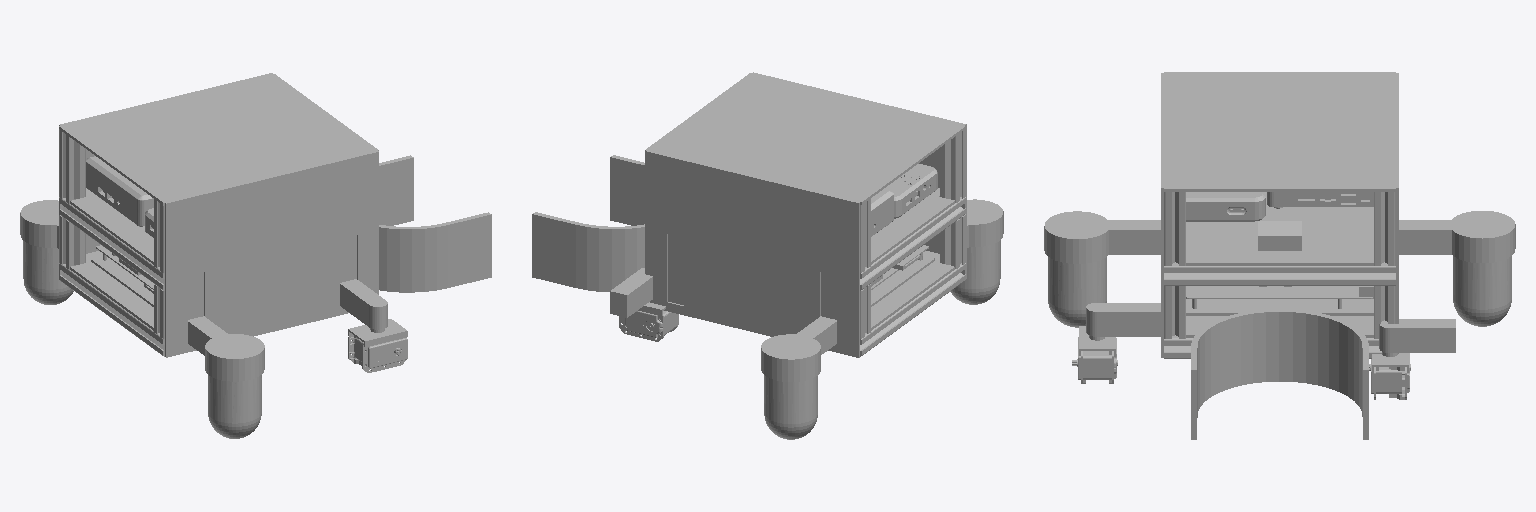
The robot description file, URDF, robot "wmodel":
<?xml version="1.0" encoding="utf-8"?>
<!-- This URDF was automatically created by SolidWorks to URDF Exporter! Originally created by [author] ([email redacted]) 
     Commit Version: 1.5.1-0-g916b5db  Build Version: 1.5.7152.31018
     For more information, please see http://wiki.ros.org/sw_urdf_exporter -->
<robot
  name="wmodel">
  <link
    name="base_link">
    <inertial>
      <origin
        xyz="-0.1234 0.10592 0.066224"
        rpy="0 0 0" />
      <mass
        value="3.9012" />
      <inertia
        ixx="0.0087528"
        ixy="-1.4657E-06"
        ixz="-8.0651E-06"
        iyy="0.018624"
        iyz="-3.3179E-07"
        izz="0.017916" />
    </inertial>
    <visual>
      <origin
        xyz="0 0 0"
        rpy="0 0 0" />
      <geometry>
        <mesh
          filename="package://wmodel/meshes/base_link.STL" />
      </geometry>
      <material
        name="">
        <color
          rgba="0.75294 0.75294 0.75294 1" />
      </material>
    </visual>
    <collision>
      <origin
        xyz="0 0 0"
        rpy="0 0 0" />
      <geometry>
        <mesh
          filename="package://wmodel/meshes/base_link.STL" />
      </geometry>
    </collision>
  </link>
  <link
    name="LFS">
    <inertial>
      <origin
        xyz="-0.062831 0.017418 0.0073567"
        rpy="0 0 0" />
      <mass
        value="0.26437" />
      <inertia
        ixx="6.2915E-05"
        ixy="2.9641E-09"
        ixz="1.6485E-08"
        iyy="6.2207E-05"
        iyz="1.5645E-07"
        izz="3.2075E-05" />
    </inertial>
    <visual>
      <origin
        xyz="0 0 0"
        rpy="0 0 0" />
      <geometry>
        <mesh
          filename="package://wmodel/meshes/LFS.STL" />
      </geometry>
      <material
        name="">
        <color
          rgba="0.75294 0.75294 0.75294 1" />
      </material>
    </visual>
    <collision>
      <origin
        xyz="0 0 0"
        rpy="0 0 0" />
      <geometry>
        <mesh
          filename="package://wmodel/meshes/LFS.STL" />
      </geometry>
    </collision>
  </link>
  <joint
    name="LFS"
    type="fixed">
    <origin
      xyz="-0.018826 0.23812 -0.065637"
      rpy="1.5708 1.5708 0" />
    <parent
      link="base_link" />
    <child
      link="LFS" />
    <axis
      xyz="0 0 0" />
  </joint>
  <link
    name="LFW">
    <inertial>
      <origin
        xyz="0.015 1.7347E-18 0"
        rpy="0 0 0" />
      <mass
        value="0.23932" />
      <inertia
        ixx="0.00030041"
        ixy="-7.4938E-37"
        ixz="5.467E-37"
        iyy="0.00016815"
        iyz="-1.685E-36"
        izz="0.00016815" />
    </inertial>
    <visual>
      <origin
        xyz="0 0 0"
        rpy="0 0 0" />
      <geometry>
        <mesh
          filename="package://wmodel/meshes/LFW.STL" />
      </geometry>
      <material
        name="">
        <color
          rgba="1 1 1 1" />
      </material>
    </visual>
    <collision>
      <origin
        xyz="0 0 0"
        rpy="0 0 0" />
      <geometry>
        <mesh
          filename="package://wmodel/meshes/LFW.STL" />
      </geometry>
    </collision>
  </link>
  <joint
    name="LFW"
    type="continuous">
    <origin
      xyz="-0.032336 0.0046744 0.050633"
      rpy="1.5708 -1.5708 0" />
    <parent
      link="LFS" />
    <child
      link="LFW" />
    <axis
      xyz="1 0 0" />
    <limit
      effort="3.1"
      velocity="7" />
  </joint>
  <link
    name="RFS">
    <inertial>
      <origin
        xyz="-0.062822 0.017931 0.0073567"
        rpy="0 0 0" />
      <mass
        value="0.26437" />
      <inertia
        ixx="6.2915E-05"
        ixy="2.9641E-09"
        ixz="-1.6485E-08"
        iyy="6.2207E-05"
        iyz="-1.5645E-07"
        izz="3.2075E-05" />
    </inertial>
    <visual>
      <origin
        xyz="0 0 0"
        rpy="0 0 0" />
      <geometry>
        <mesh
          filename="package://wmodel/meshes/RFS.STL" />
      </geometry>
      <material
        name="">
        <color
          rgba="0.75294 0.75294 0.75294 1" />
      </material>
    </visual>
    <collision>
      <origin
        xyz="0 0 0"
        rpy="0 0 0" />
      <geometry>
        <mesh
          filename="package://wmodel/meshes/RFS.STL" />
      </geometry>
    </collision>
  </link>
  <joint
    name="RFS"
    type="fixed">
    <origin
      xyz="-0.054174 -0.028117 -0.065637"
      rpy="1.5708 1.5708 0" />
    <parent
      link="base_link" />
    <child
      link="RFS" />
    <axis
      xyz="0 0 0" />
  </joint>
  <link
    name="RFW">
    <inertial>
      <origin
        xyz="-0.015 0 3.4694E-18"
        rpy="0 0 0" />
      <mass
        value="0.23932" />
      <inertia
        ixx="0.00030041"
        ixy="-2.0699E-37"
        ixz="1.0955E-36"
        iyy="0.00016815"
        iyz="0"
        izz="0.00016815" />
    </inertial>
    <visual>
      <origin
        xyz="0 0 0"
        rpy="0 0 0" />
      <geometry>
        <mesh
          filename="package://wmodel/meshes/RFW.STL" />
      </geometry>
      <material
        name="">
        <color
          rgba="1 1 1 1" />
      </material>
    </visual>
    <collision>
      <origin
        xyz="0 0 0"
        rpy="0 0 0" />
      <geometry>
        <mesh
          filename="package://wmodel/meshes/RFW.STL" />
      </geometry>
    </collision>
  </link>
  <joint
    name="RFW"
    type="continuous">
    <origin
      xyz="-0.032338 0.030674 0.050633"
      rpy="1.64 1.5708 0" />
    <parent
      link="RFS" />
    <child
      link="RFW" />
    <axis
      xyz="1 0 0" />
    <limit
      effort="3.1"
      velocity="7" />
  </joint>
  <link
    name="LBS">
    <inertial>
      <origin
        xyz="0.0023416 0.011605 0.13604"
        rpy="0 0 0" />
      <mass
        value="0.18193" />
      <inertia
        ixx="0.00015842"
        ixy="3.541E-07"
        ixz="-1.564E-20"
        iyy="0.0001879"
        iyz="-1.3716E-19"
        izz="0.00010696" />
    </inertial>
    <visual>
      <origin
        xyz="0 0 0"
        rpy="0 0 0" />
      <geometry>
        <mesh
          filename="package://wmodel/meshes/LBS.STL" />
      </geometry>
      <material
        name="">
        <color
          rgba="0.75294 0.75294 0.75294 1" />
      </material>
    </visual>
    <collision>
      <origin
        xyz="0 0 0"
        rpy="0 0 0" />
      <geometry>
        <mesh
          filename="package://wmodel/meshes/LBS.STL" />
      </geometry>
    </collision>
  </link>
  <joint
    name="LBS"
    type="fixed">
    <origin
      xyz="-0.22575 0.27935 0.11451"
      rpy="3.1416 0 1.5708" />
    <parent
      link="base_link" />
    <child
      link="LBS" />
    <axis
      xyz="0 0 0" />
  </joint>
  <link
    name="RBS">
    <inertial>
      <origin
        xyz="0.0023416 0.011605 0.13604"
        rpy="0 0 0" />
      <mass
        value="0.18193" />
      <inertia
        ixx="0.00015842"
        ixy="3.541E-07"
        ixz="5.3188E-20"
        iyy="0.0001879"
        iyz="-7.4101E-20"
        izz="0.00010696" />
    </inertial>
    <visual>
      <origin
        xyz="0 0 0"
        rpy="0 0 0" />
      <geometry>
        <mesh
          filename="package://wmodel/meshes/RBS.STL" />
      </geometry>
      <material
        name="">
        <color
          rgba="0.75294 0.75294 0.75294 1" />
      </material>
    </visual>
    <collision>
      <origin
        xyz="0 0 0"
        rpy="0 0 0" />
      <geometry>
        <mesh
          filename="package://wmodel/meshes/RBS.STL" />
      </geometry>
    </collision>
  </link>
  <joint
    name="RBS"
    type="fixed">
    <origin
      xyz="-0.20125 -0.06935 0.11451"
      rpy="3.1416 0 -1.5708" />
    <parent
      link="base_link" />
    <child
      link="RBS" />
    <axis
      xyz="0 0 0" />
  </joint>
  <link
    name="fcam">
    <inertial>
      <origin
        xyz="0.049836 0.061784 0.068723"
        rpy="0 0 0" />
      <mass
        value="0.043612" />
      <inertia
        ixx="4.2948E-06"
        ixy="-8.8579E-10"
        ixz="-1.0181E-09"
        iyy="2.2106E-05"
        iyz="2.1758E-08"
        izz="2.3571E-05" />
    </inertial>
    <visual>
      <origin
        xyz="0 0 0"
        rpy="0 0 0" />
      <geometry>
        <mesh
          filename="package://wmodel/meshes/fcam.STL" />
      </geometry>
      <material
        name="">
        <color
          rgba="0.79216 0.81961 0.93333 1" />
      </material>
    </visual>
    <collision>
      <origin
        xyz="0 0 0"
        rpy="0 0 0" />
      <geometry>
        <mesh
          filename="package://wmodel/meshes/fcam.STL" />
      </geometry>
    </collision>
  </link>
  <joint
    name="fcam"
    type="fixed">
    <origin
      xyz="-0.080277 0.055161 0.074007"
      rpy="1.5708 0 1.5708" />
    <parent
      link="base_link" />
    <child
      link="fcam" />
    <axis
      xyz="0 0 0" />
  </joint>
  <link
    name="bcam">
    <inertial>
      <origin
        xyz="0.049836 0.061784 0.068723"
        rpy="0 0 0" />
      <mass
        value="0.043612" />
      <inertia
        ixx="4.2948E-06"
        ixy="-8.8548E-10"
        ixz="-1.0183E-09"
        iyy="2.2106E-05"
        iyz="2.1758E-08"
        izz="2.3571E-05" />
    </inertial>
    <visual>
      <origin
        xyz="0 0 0"
        rpy="0 0 0" />
      <geometry>
        <mesh
          filename="package://wmodel/meshes/bcam.STL" />
      </geometry>
      <material
        name="">
        <color
          rgba="0.79216 0.81961 0.93333 1" />
      </material>
    </visual>
    <collision>
      <origin
        xyz="0 0 0"
        rpy="0 0 0" />
      <geometry>
        <mesh
          filename="package://wmodel/meshes/bcam.STL" />
      </geometry>
    </collision>
  </link>
  <joint
    name="bcam"
    type="fixed">
    <origin
      xyz="-0.11013 0.055161 0.10472"
      rpy="2.3562 0 1.5708" />
    <parent
      link="base_link" />
    <child
      link="bcam" />
    <axis
      xyz="0 0 0" />
  </joint>
  <link
    name="Lidar">
    <inertial>
      <origin
        xyz="0 0 0"
        rpy="0 0 0" />
      <mass
        value="0" />
      <inertia
        ixx="0"
        ixy="0"
        ixz="0"
        iyy="0"
        iyz="0"
        izz="0" />
    </inertial>
    <visual>
      <origin
        xyz="0 0 0"
        rpy="0 0 0" />
      <geometry>
        <mesh
          filename="package://wmodel/meshes/Lidar.STL" />
      </geometry>
      <material
        name="">
        <color
          rgba="1 1 1 1" />
      </material>
    </visual>
    <collision>
      <origin
        xyz="0 0 0"
        rpy="0 0 0" />
      <geometry>
        <mesh
          filename="package://wmodel/meshes/Lidar.STL" />
      </geometry>
    </collision>
  </link>
  <joint
    name="Lidar"
    type="fixed">
    <origin
      xyz="-0.09856 0.23792 -0.56719"
      rpy="-1.5708 0 0" />
    <parent
      link="base_link" />
    <child
      link="Lidar" />
    <axis
      xyz="0 0 0" />
  </joint>
</robot>

--- What the picture shows (computed from the rendered views, not written in the file) ---
The picture shows the robot from 3 angles, left to right: view 1: azimuth 30°, elevation 25°; view 2: azimuth 150°, elevation 25°; view 3: azimuth 270°, elevation 25°; orthographic projection.
Model wmodel with 10 links and 9 joints (2 continuous, 7 fixed), rooted at base_link, posed all joints at 0.
Links seen in each view (by area): view 1: base_link, RBS, RFS, LBS; view 2: base_link, LBS, RBS, LFS; view 3: base_link, LBS, RBS, RFS, LFS.
Boxes of the visible links, box(x1,y1,x2,y2) form: base_link: box(59, 73, 491, 357); RBS: box(188, 316, 264, 438); RFS: box(340, 279, 407, 372); LBS: box(20, 200, 73, 304); base_link: box(532, 72, 966, 357); LBS: box(761, 316, 836, 439); RBS: box(950, 199, 1003, 304); LFS: box(610, 268, 678, 341); base_link: box(1161, 72, 1398, 439); LBS: box(1399, 211, 1515, 326); RBS: box(1044, 211, 1160, 327); RFS: box(1072, 303, 1160, 383); LFS: box(1369, 319, 1455, 399).
Size in the robot's own frame: 0.3943 by 0.428 by 0.2358 metres.
5 mesh visuals loaded from 10 distinct referenced files (5 binary STL); not drawn: 5 (reference not matched to a file when rendering).